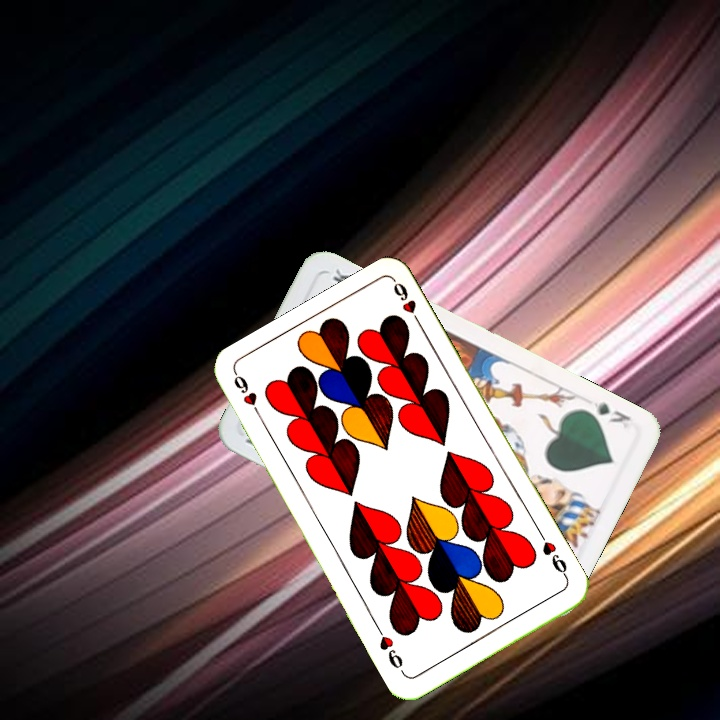GK: (589, 397, 633, 431)
H9: (229, 370, 266, 424), (535, 529, 571, 583)
